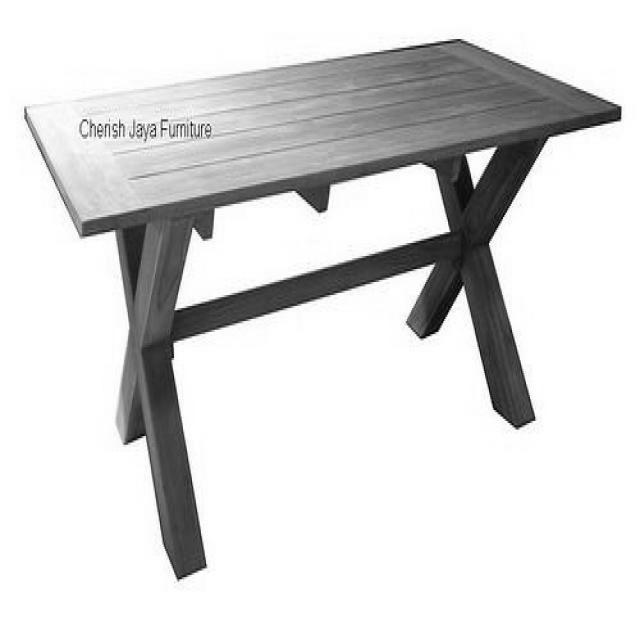table: (23, 36, 620, 576)
